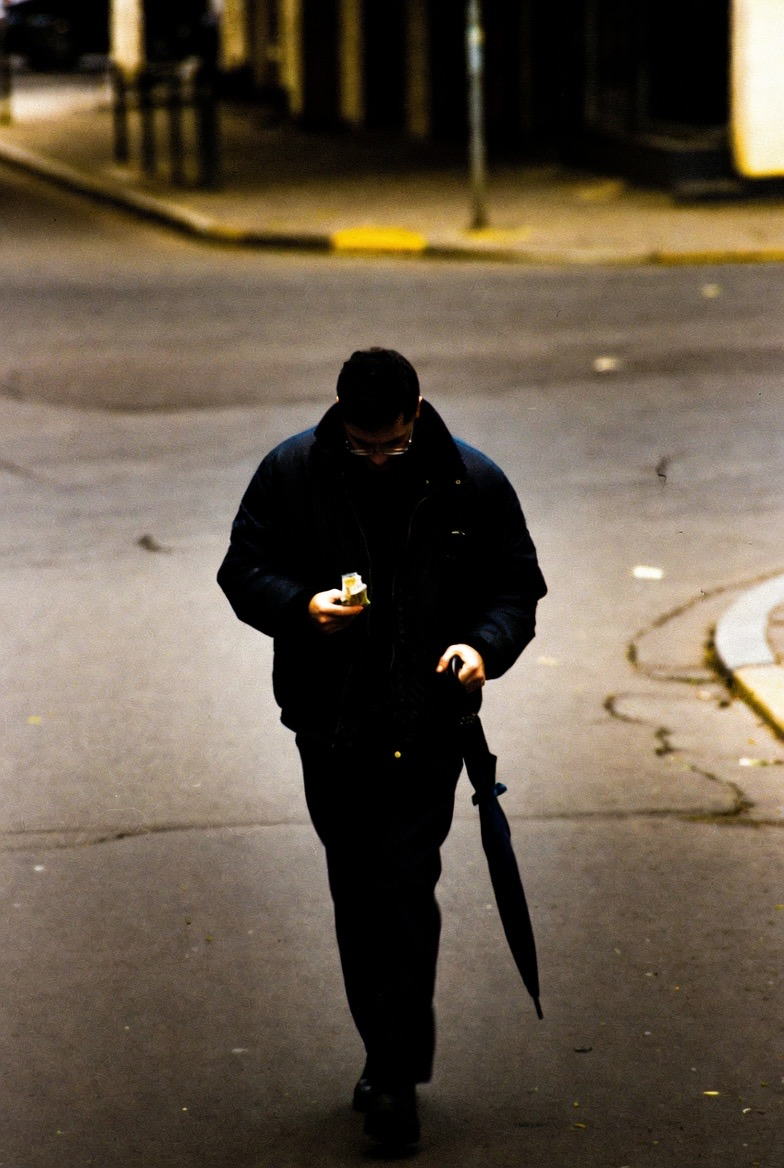person: (216, 346, 548, 1151)
umbrella: (433, 657, 544, 1021)
